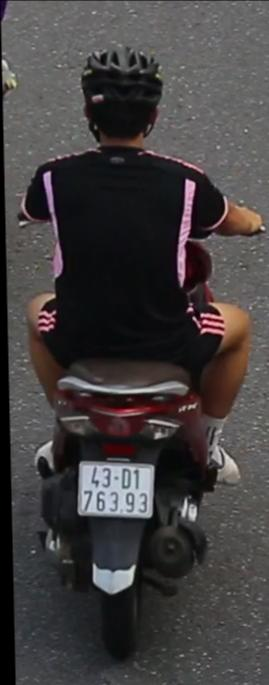LP: (73, 456, 156, 524)
helmet: (76, 34, 166, 158)
